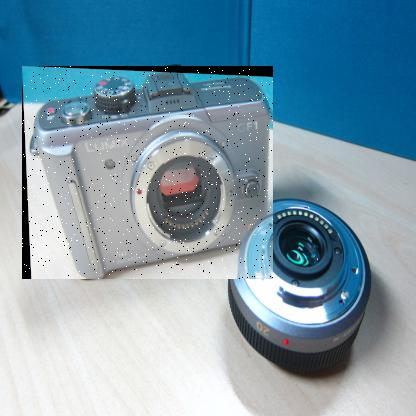Camera: (23, 67, 275, 281)
